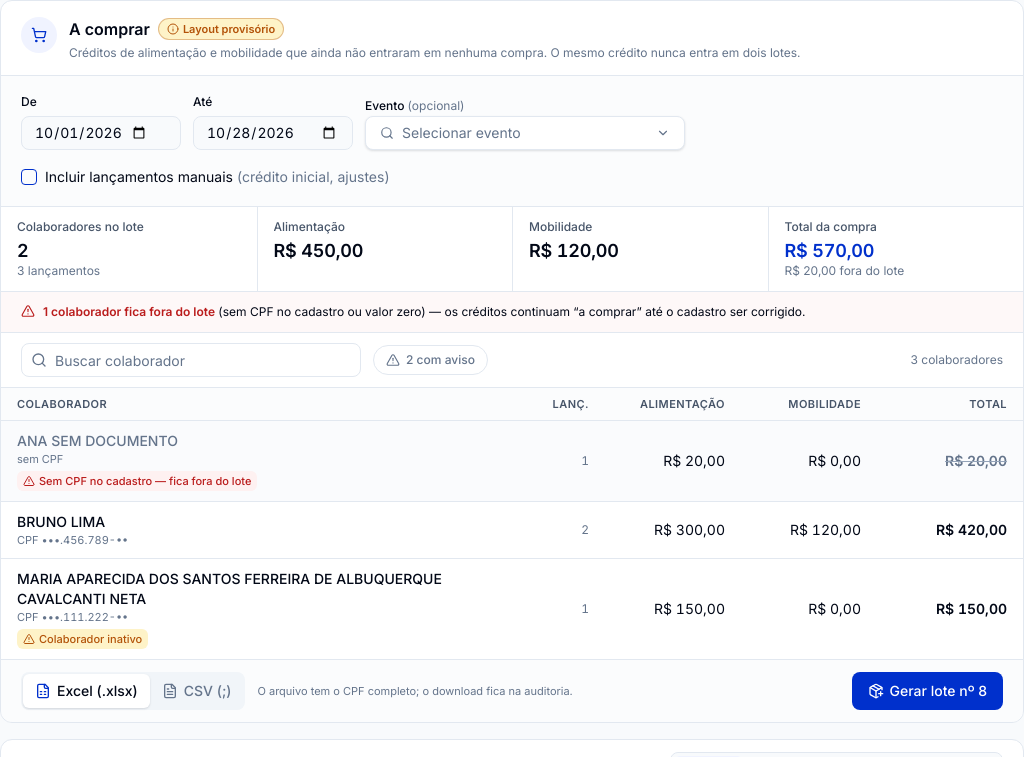
Scenario: Compras Flash: gerar o lote › confirma com o resumo, manda a assinatura e baixa o arquivo do lote no formato escolhido
Click the radio button with test id "compra-formato-csv". click: x=197, y=690
box: [162,682,232,699]
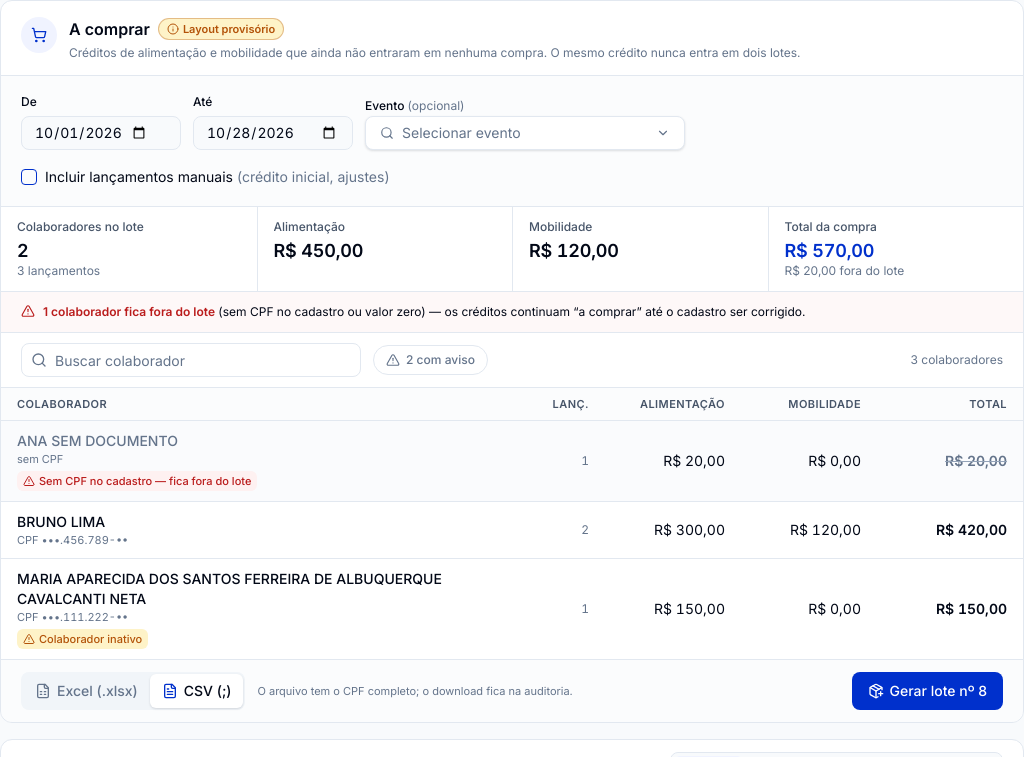
Click the button with test id "compra-gerar". click: x=927, y=691
box: [852,672,1003,710]
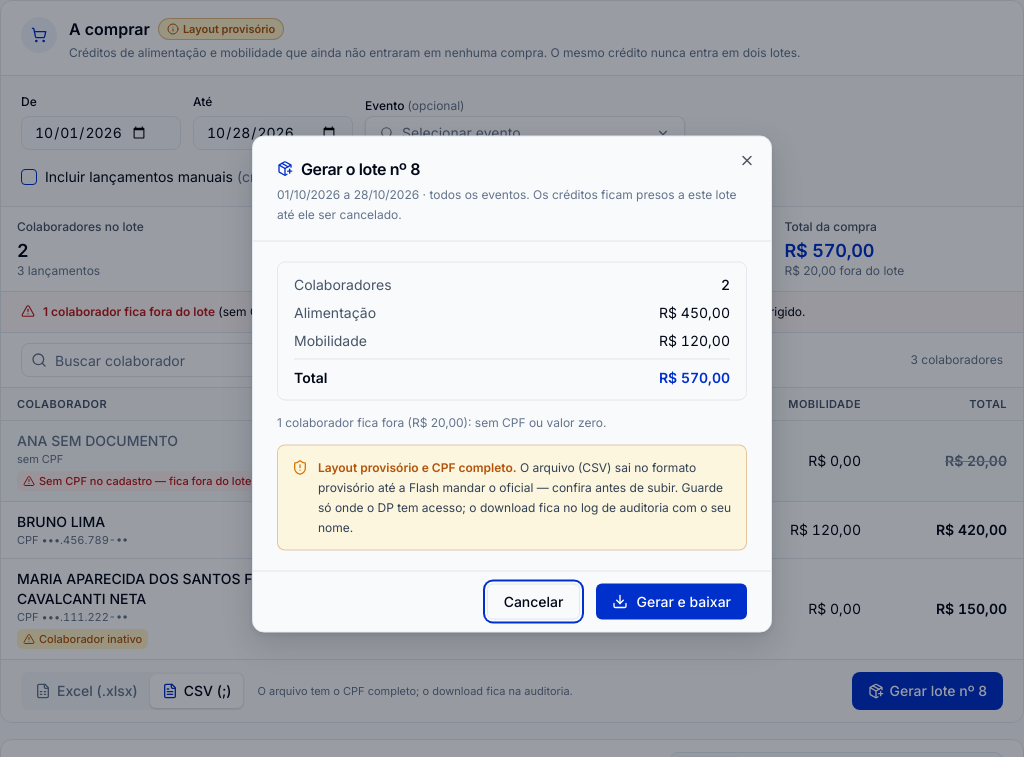
Expected: the text with test id "compra-dialogo-total" reads "R$ 570,00", [659,368,730,386]
Expected: the dialog with test id "compra-dialogo-gerar" shows "CPF completo", [318,460,517,474]
Click the button with test id "compra-confirmar". click: x=672, y=602
box: [596,584,747,620]
(page scrolled)
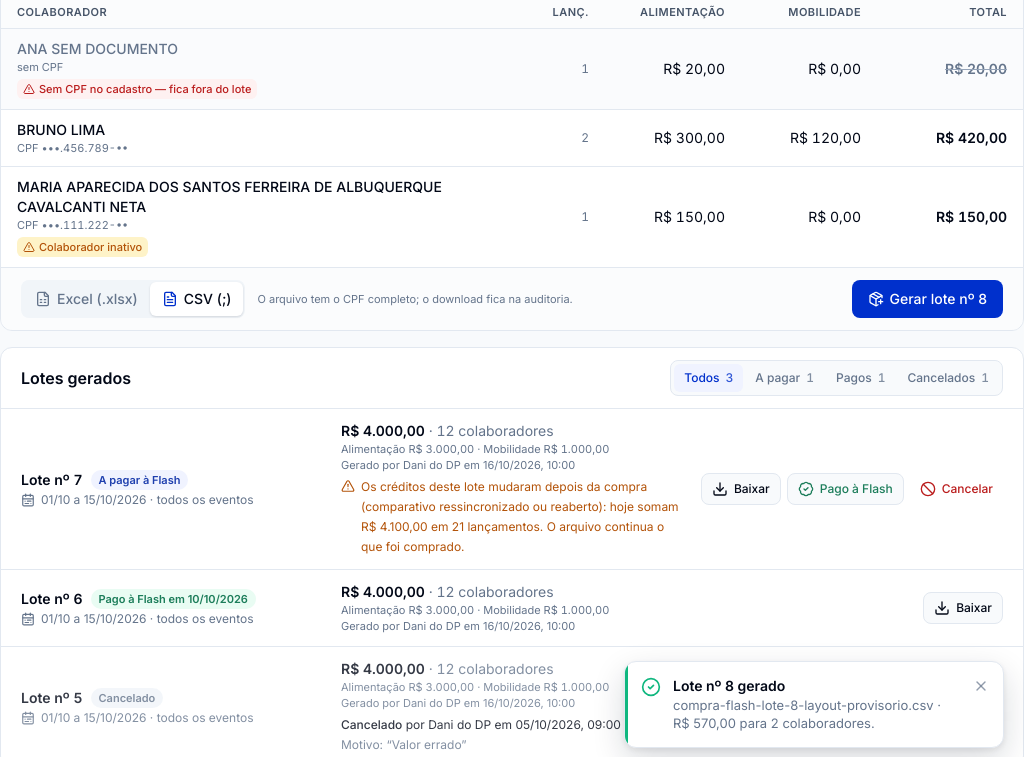
Expected: the dialog with test id "compra-dialogo-gerar" is gone
